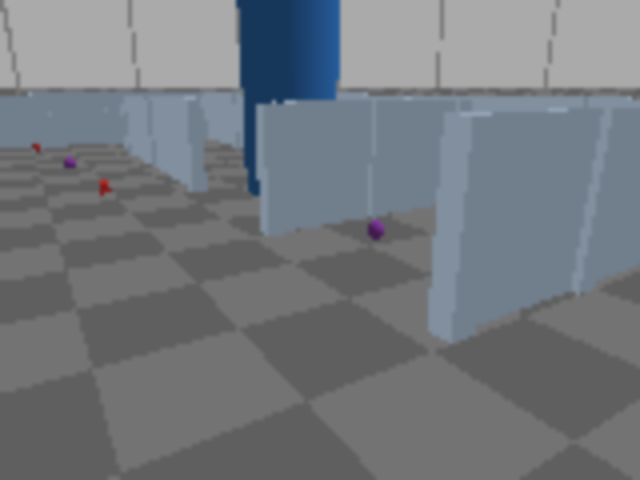puck: (365, 219, 385, 241)
